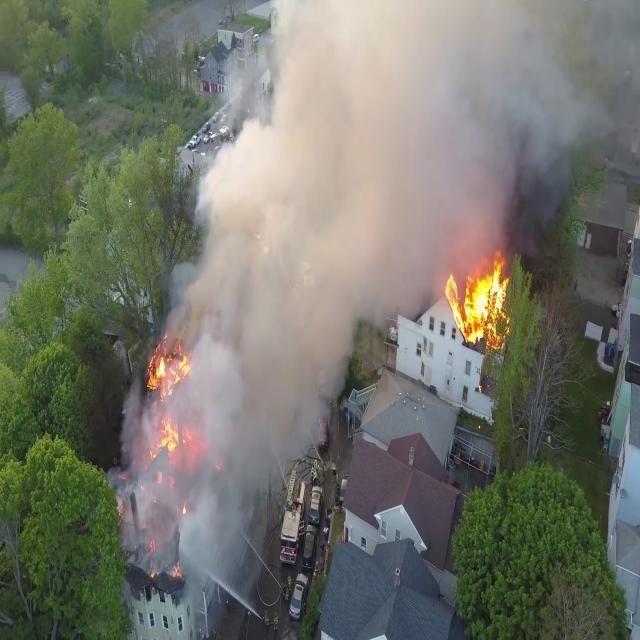fire: (444, 267, 508, 345), (146, 328, 188, 397)
